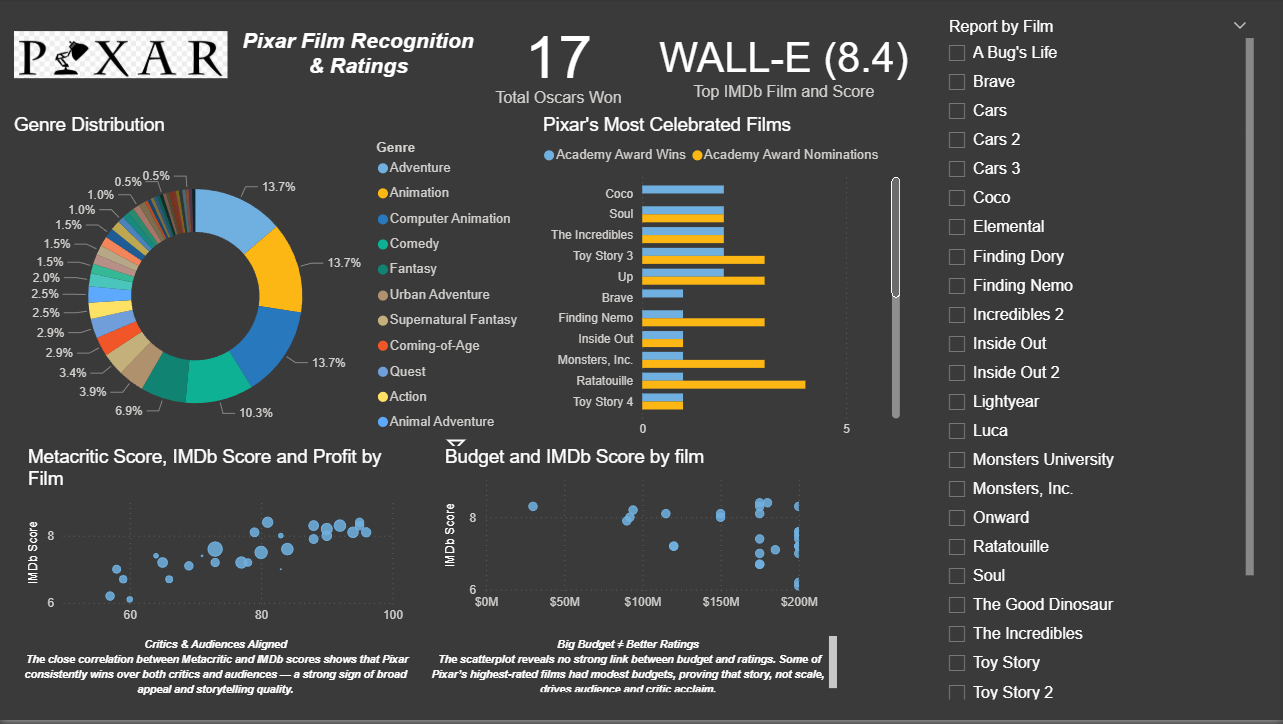

This screenshot's page, from the dashboard's own definition file:
{"tool":"powerbi","page":{"name":"Creative & Critical Analysis","canvas":[1280,720],"ordinal":1},"visuals":[{"type":"donutChart","title":"Genre Distribution ","fields":{"Y":["Count(genres.film)"],"Category":["genres.value"]},"box":[8.8,115.9,527.7,342.4],"z":0},{"type":"scatterChart","fields":{"X":["Sum(public_response.metacritic_score)"],"Y":["Sum(public_response.imdb_score)"],"Category":["pixar_films.film"],"Size":["Sum(box_office.Profit)"]},"box":[22.8,446.9,384.6,184.4],"z":1000},{"type":"clusteredBarChart","title":"Pixar''s Most Celebrated Films","fields":{"Category":["academy.film"],"Y":["academy.Academy Award Wins","academy.Academy Award Nominations"]},"box":[536.5,115.9,366.1,331],"z":2000},{"type":"scatterChart","fields":{"Category":["pixar_films.film"],"X":["Sum(box_office.budget)"],"Y":["Sum(public_response.imdb_score)"]},"box":[439,446.9,382,171.2],"z":3000},{"type":"slicer","fields":{"Values":["pixar_films.film"]},"box":[934.2,14.9,322.2,690.1],"z":4000},{"type":"card","fields":{"Values":["academy.Total Oscars Won"]},"box":[483.8,14.9,146.6,94.8],"z":5000},{"type":"card","fields":{"Values":["public_response.Top IMDb Film"]},"box":[649.8,14.9,265.2,101],"z":6000},{"type":"image","box":[8.8,0,223,112.4],"z":7000},{"type":"textbox","box":[420.6,631.3,418.8,65.9],"z":8000},{"type":"textbox","box":[8.8,631.3,411.8,73.8],"z":9000},{"type":"textbox","box":[231.8,25.5,252,79.9],"z":10000}]}

Visuals, with their boxes in screenshot pixels (x1, y1, x2, y2), scaled from the page's 1280x720 canvas onto the 1283x724 screenshot:
"Genre Distribution " donutChart: box(9, 117, 538, 461)
scatterChart - Sum(public_response.metacritic_score) x Sum(public_response.imdb_score): box(23, 449, 408, 635)
"Pixar''s Most Celebrated Films" clusteredBarChart: box(538, 117, 905, 449)
scatterChart - pixar_films.film x Sum(box_office.budget): box(440, 449, 823, 622)
slicer - pixar_films.film: box(936, 15, 1259, 709)
card - academy.Total Oscars Won: box(485, 15, 632, 110)
card - public_response.Top IMDb Film: box(651, 15, 917, 117)
image: box(9, 0, 232, 113)
textbox: box(422, 635, 841, 701)
textbox: box(9, 635, 422, 709)
textbox: box(232, 26, 485, 106)
